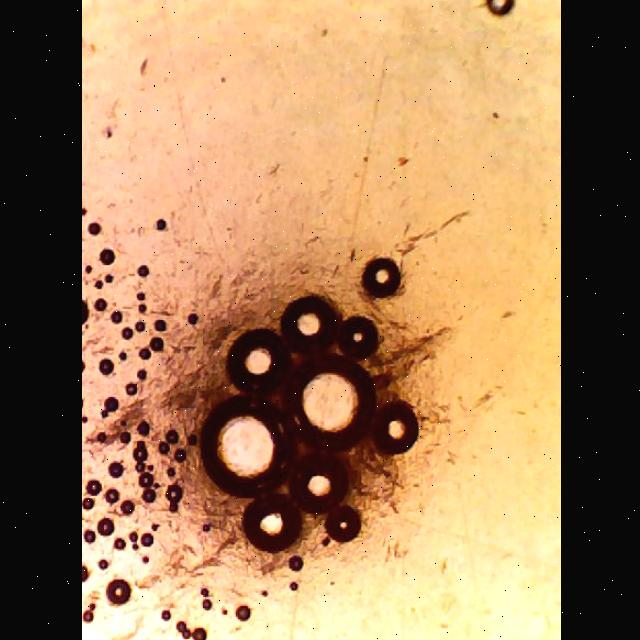microbeads: (198, 387, 296, 501), (222, 322, 290, 394), (274, 287, 340, 359), (234, 488, 302, 556), (358, 395, 418, 457), (354, 250, 401, 300), (318, 499, 360, 545)
